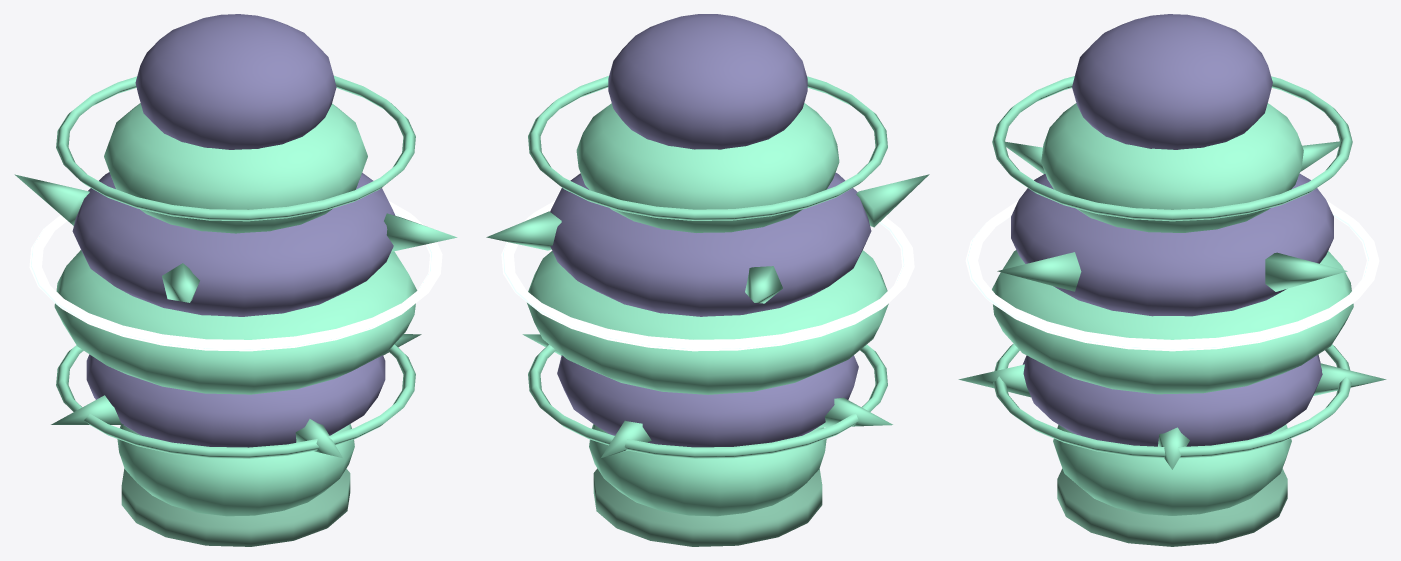
The model's file is egg_enchanted_09.glb.
3 renders of one model, left to right at view 1: azimuth 30°, elevation 25°; view 2: azimuth 150°, elevation 25°; view 3: azimuth 270°, elevation 25°, orthographic.
Parts seen in each view (by area): view 1: ball; view 2: ball; view 3: ball.
Boxes of the visible parts, bbox=[...] form: ball: bbox=[14, 14, 457, 546]; ball: bbox=[486, 14, 929, 546]; ball: bbox=[958, 14, 1386, 546].
Size of the model in its own units: 0.8182 by 0.99 by 0.8182.
